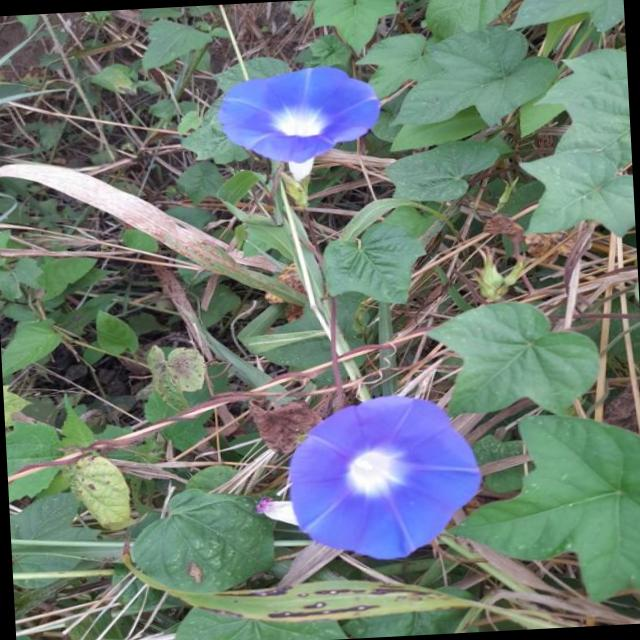ipomoea: (277, 389, 489, 567), (210, 61, 386, 182)
